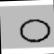no answer: (18, 15, 52, 44)
